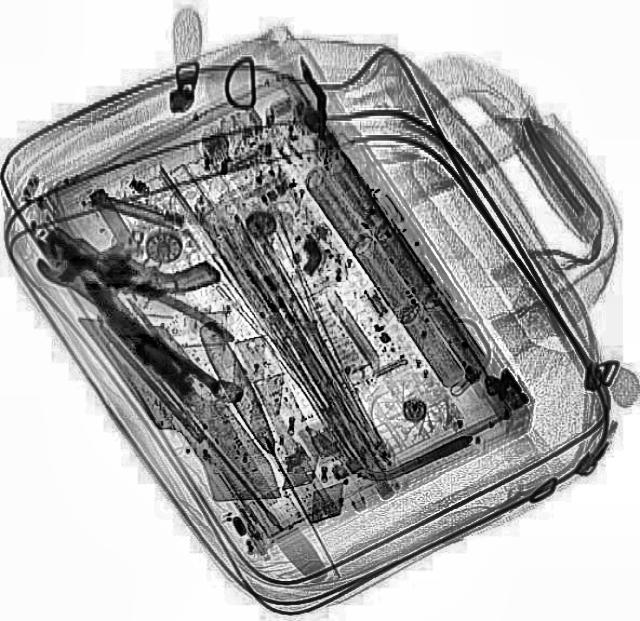Gun: (42, 181, 226, 327)
Knife: (190, 317, 352, 589)
Pliers: (19, 216, 241, 394)
Wrench: (22, 234, 258, 418)
